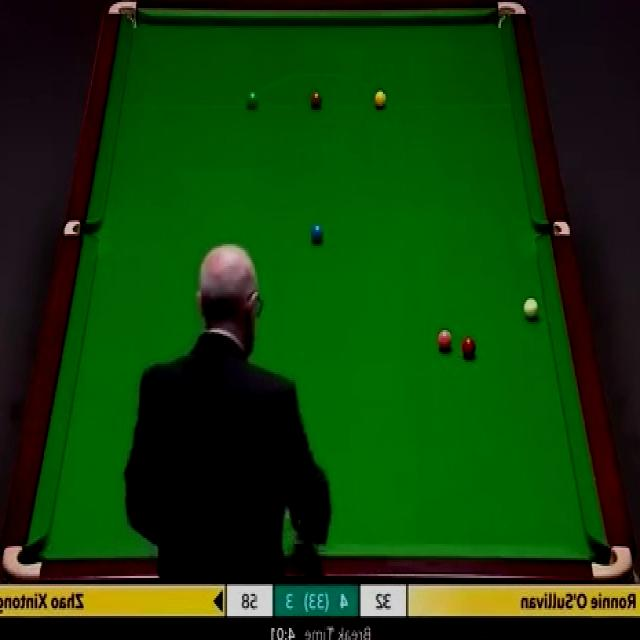pocket: (589, 542, 634, 582), (2, 542, 46, 580), (495, 0, 528, 34), (110, 0, 141, 32), (64, 218, 101, 240), (535, 220, 573, 235)
